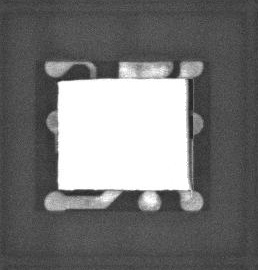DIE_BROKEN: (184, 76, 195, 189)
